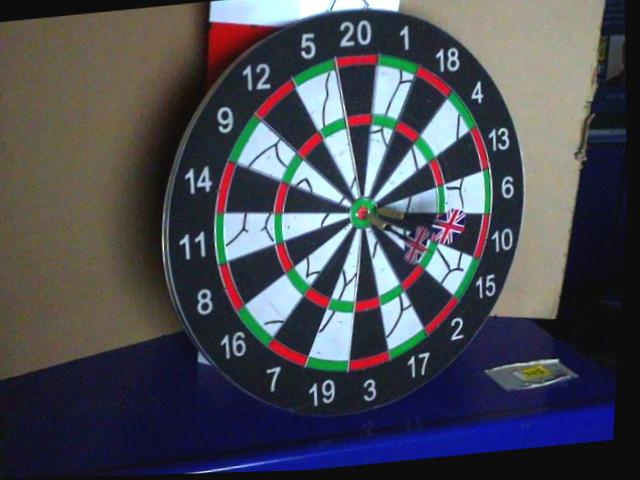bullseye: (349, 198, 376, 229)
